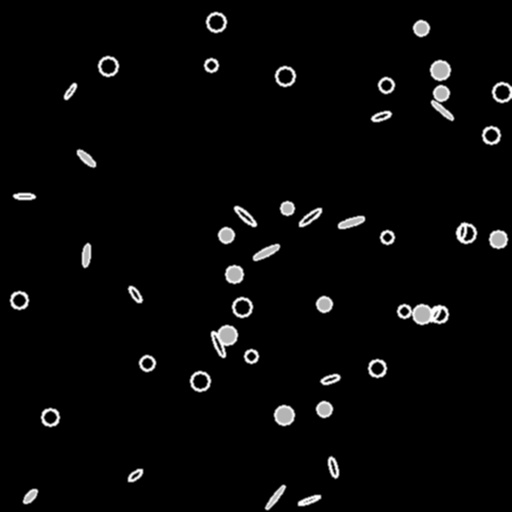pseudomonas: (264, 484, 286, 510), (430, 99, 454, 121), (298, 206, 322, 228), (233, 205, 257, 227), (252, 243, 280, 261), (210, 330, 226, 358), (75, 148, 97, 168), (337, 215, 365, 229), (127, 284, 143, 304), (22, 487, 38, 505), (298, 494, 320, 506), (327, 456, 339, 478), (63, 82, 77, 100), (371, 110, 391, 122), (81, 243, 91, 267), (127, 468, 143, 482), (428, 306, 442, 322), (457, 222, 467, 240), (321, 374, 339, 384), (14, 193, 34, 199)
synechocystis: (207, 13, 225, 31), (493, 83, 511, 101), (99, 57, 117, 75), (275, 406, 293, 424), (233, 298, 251, 316), (191, 372, 209, 390), (276, 67, 294, 85), (457, 224, 475, 242), (431, 61, 449, 79), (413, 305, 431, 323), (218, 326, 236, 344), (431, 306, 447, 322), (483, 127, 499, 143), (226, 266, 242, 282), (369, 360, 385, 376), (11, 292, 27, 308), (490, 231, 506, 247), (42, 409, 58, 425), (317, 402, 331, 416), (219, 228, 233, 242), (140, 356, 154, 370), (317, 297, 331, 311), (414, 21, 428, 35), (379, 78, 393, 92), (434, 86, 448, 100), (398, 305, 410, 317), (205, 59, 217, 71), (381, 231, 393, 243), (281, 202, 293, 214), (245, 350, 257, 362)
